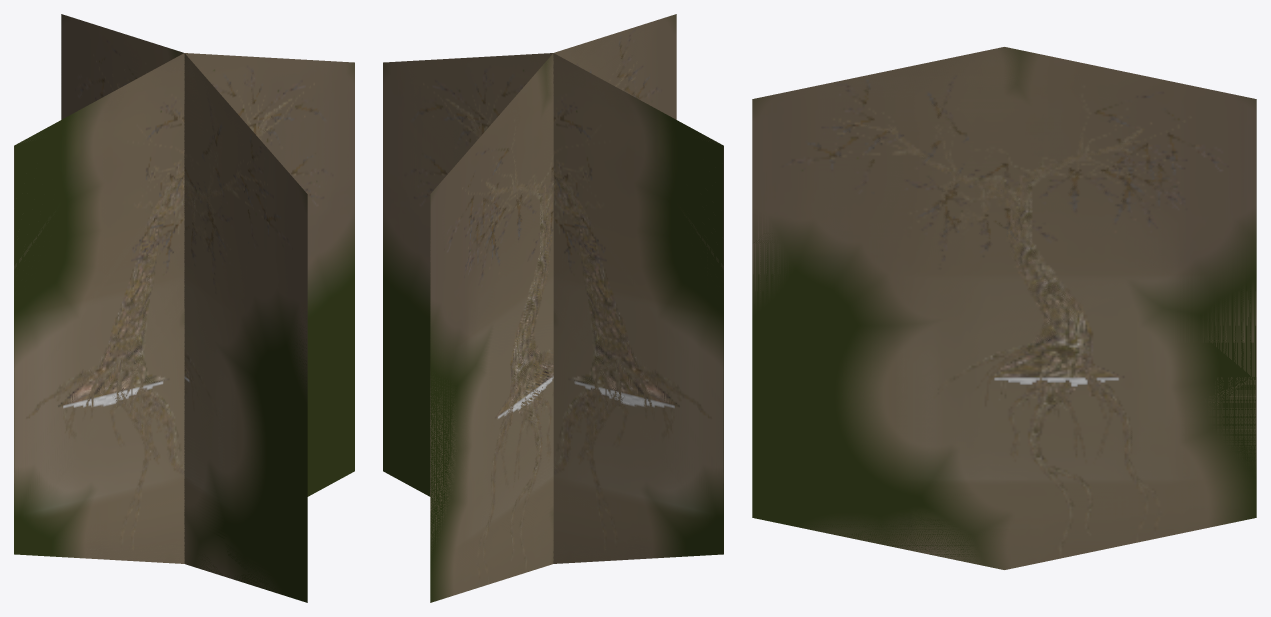
The model's file is tree_dead_billboard.fbx.
3 renders of one model, left to right at view 1: azimuth 30°, elevation 25°; view 2: azimuth 150°, elevation 25°; view 3: azimuth 270°, elevation 25°, orthographic. The views are drawn at different scales.
Visible parts, largest first — view 1: tree_dead_1_billboard_0; view 2: tree_dead_1_billboard_0; view 3: tree_dead_1_billboard_0.
Part boxes in pixels (<box>): tree_dead_1_billboard_0: <box>14,14,354,602</box>; tree_dead_1_billboard_0: <box>383,14,723,602</box>; tree_dead_1_billboard_0: <box>752,47,1256,569</box>.
Size of the model in its own units: 479 by 687 by 600.
1 material, 1 textured.
